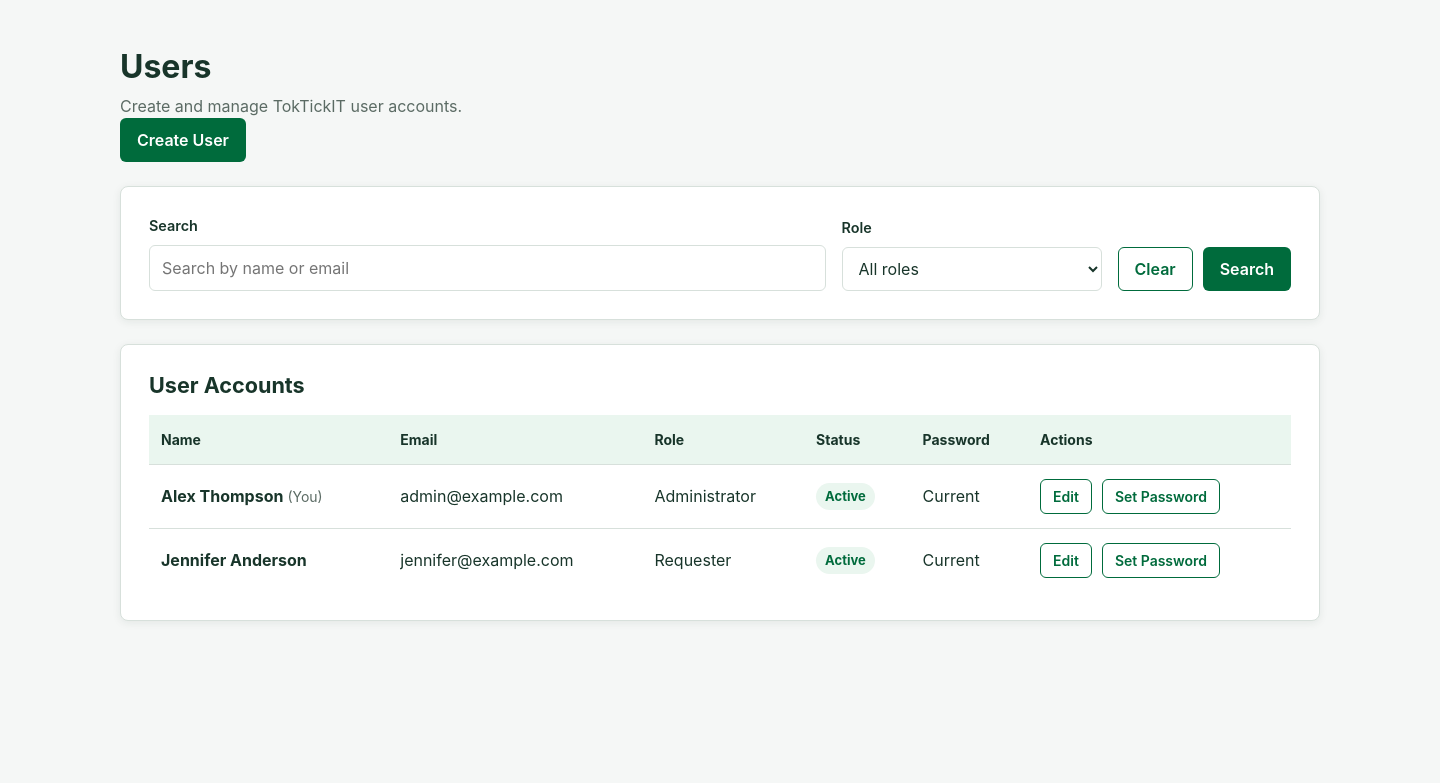
Test: UserManagement › sets a new initial password
Expected: the text "Jennifer Anderson" is shown, [161,550,307,570]
Click the button "Set Password" in the row of "Jennifer Anderson" at (1161, 560), box [1102,543,1220,578]
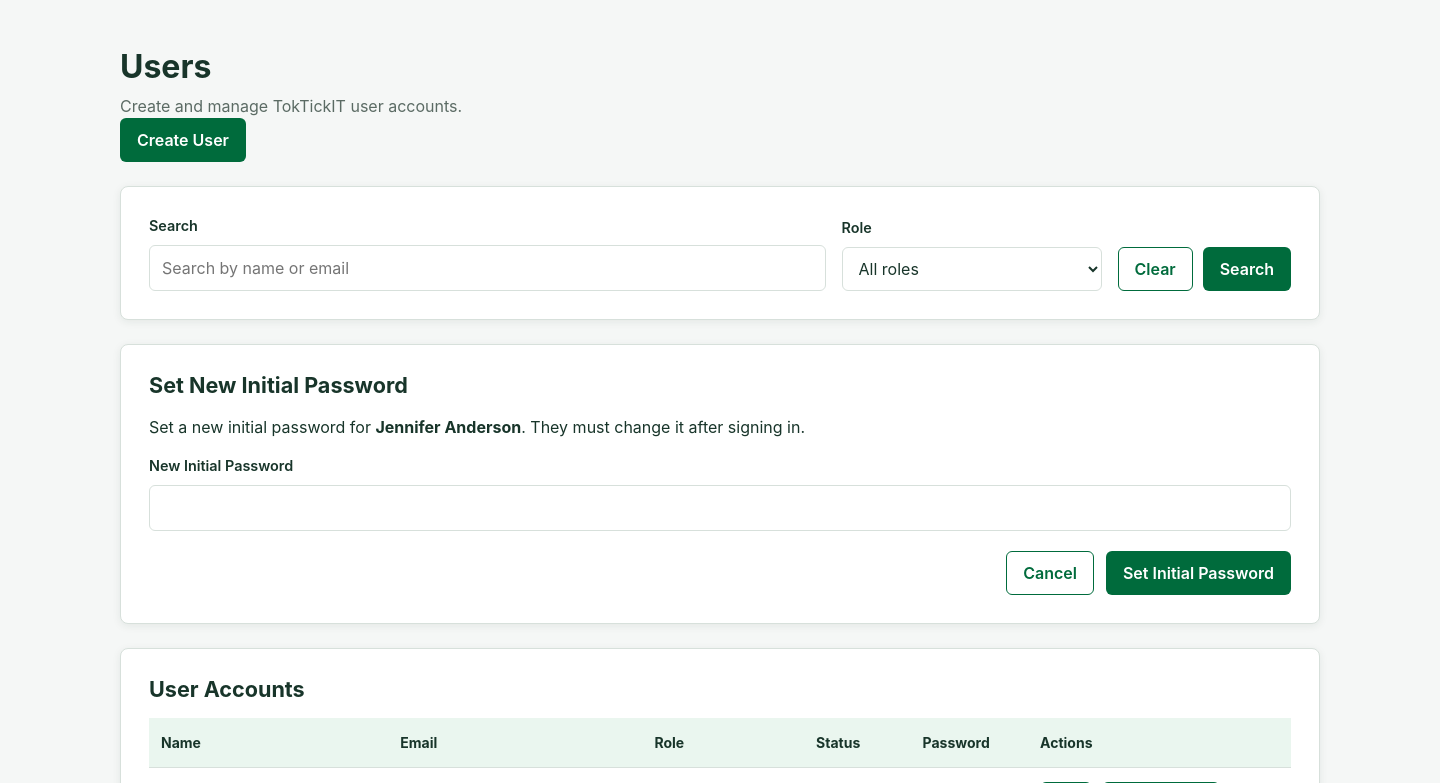
Type "NewInitial1!" into the password field labelled "New Initial Password" at (720, 508), box [149,484,1291,530]
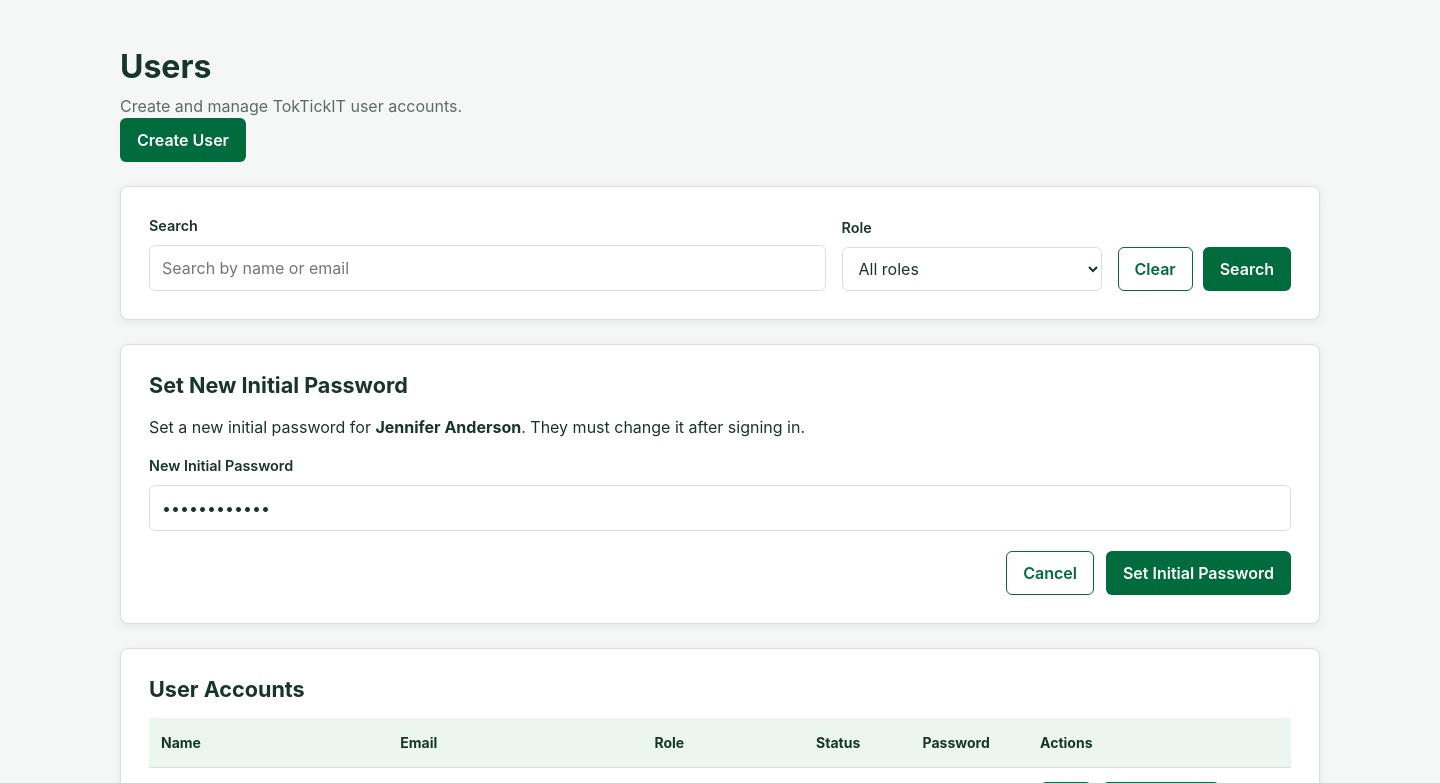
Click the button "Set Initial Password" at (1198, 572), box [1106,550,1291,594]
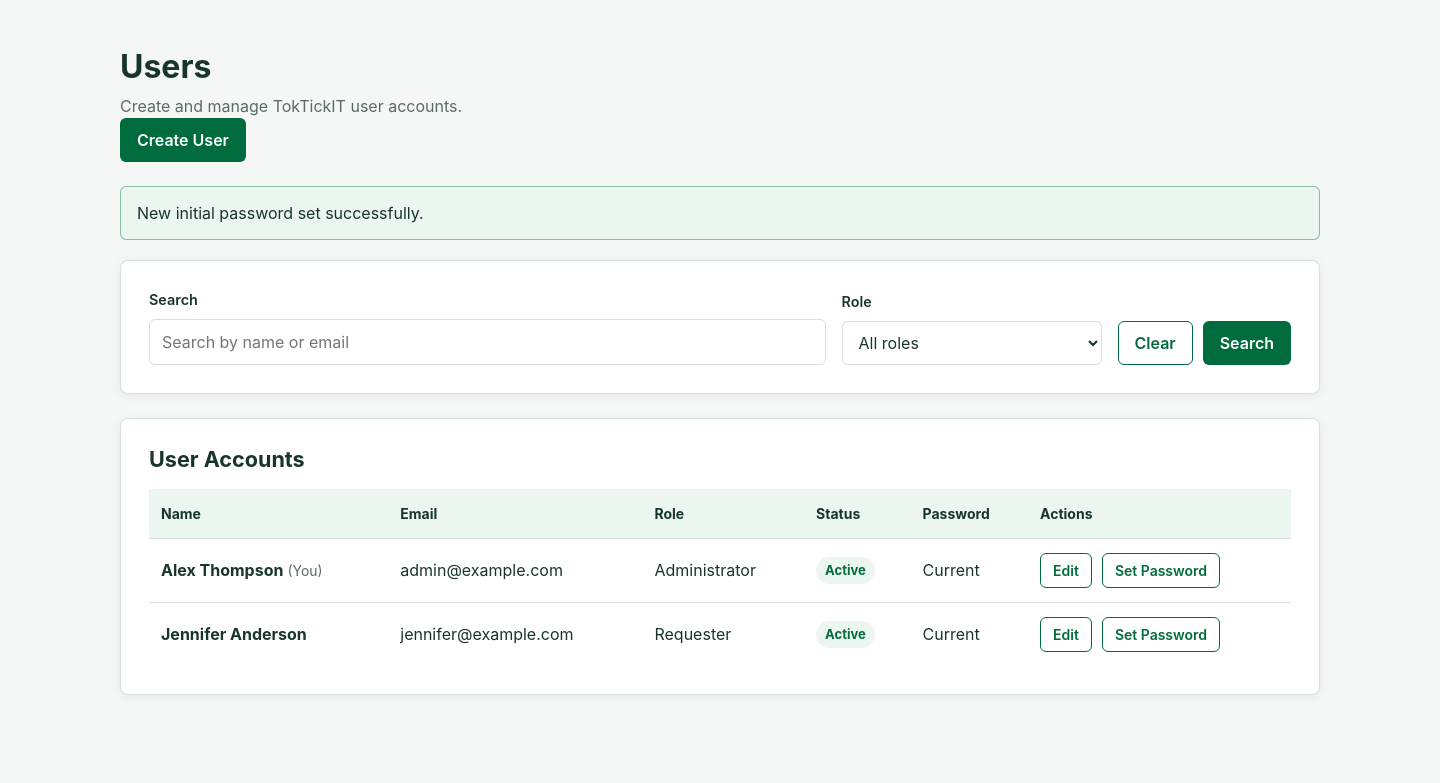
Now the message reads "New initial password set successfully.", box [137,203,424,223]
